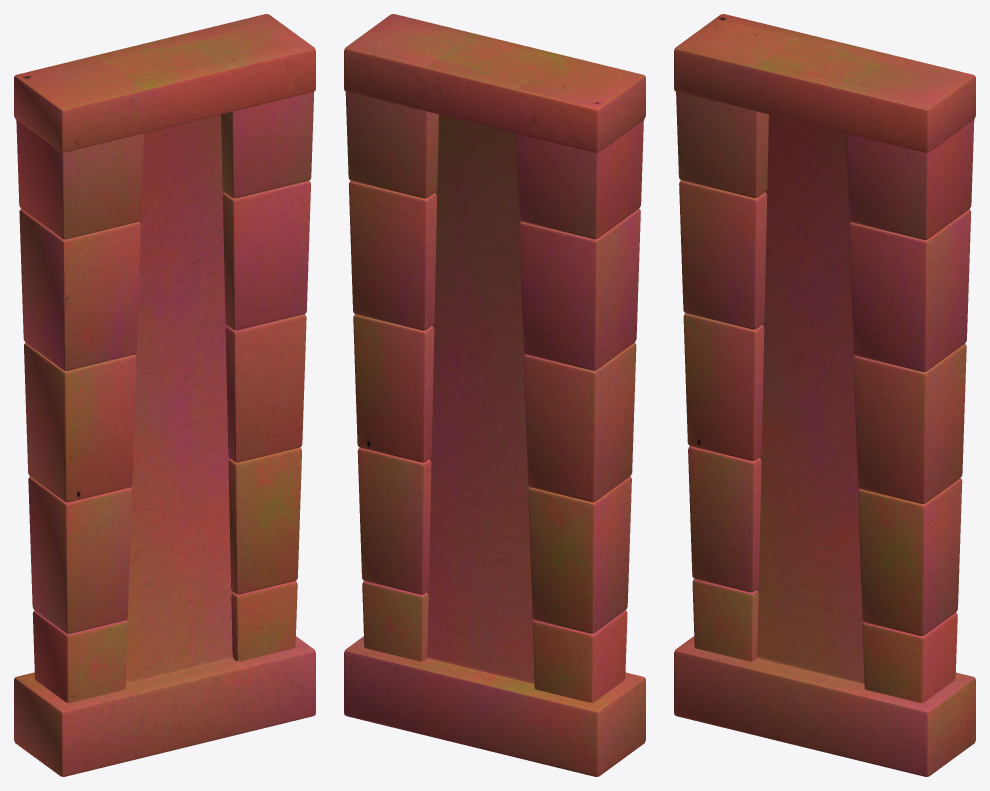
Rendered from TEMPLE_WALL_1_001.obj.
The picture shows the model from 3 angles, left to right: view 1: azimuth 30°, elevation 25°; view 2: azimuth 150°, elevation 25°; view 3: azimuth 330°, elevation 25°; orthographic projection.
Parts seen in each view (by area): view 1: TEMPLE_WALL_1_001; view 2: TEMPLE_WALL_1_001; view 3: TEMPLE_WALL_1_001.
Part boxes in pixels (bbox=[...]): TEMPLE_WALL_1_001: bbox=[14, 14, 315, 776]; TEMPLE_WALL_1_001: bbox=[344, 14, 645, 776]; TEMPLE_WALL_1_001: bbox=[674, 14, 975, 776].
Bounding box in the file's own units: 1.2 × 3 × 0.4.
